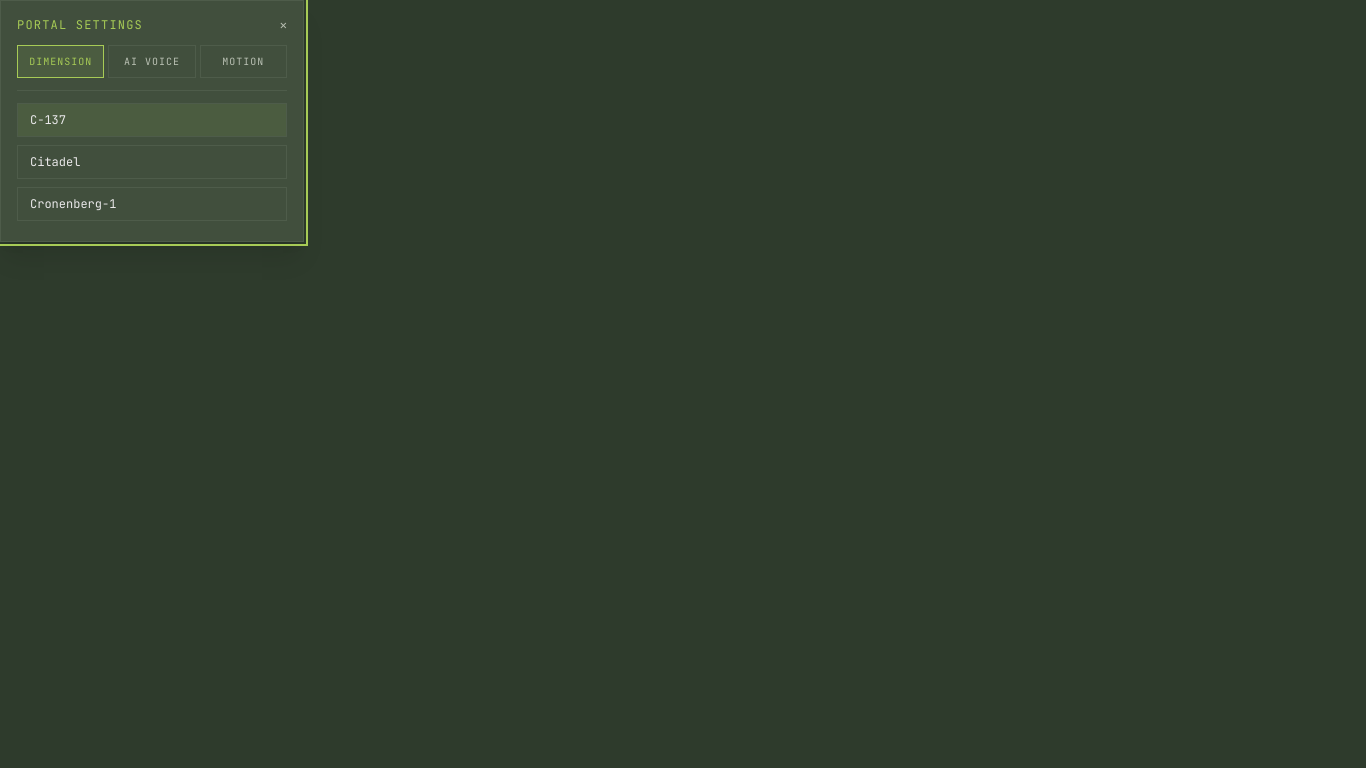
SettingsPanel › presents one tab per group of settings
Expected: the text "PORTAL SETTINGS" is shown, [17,17,143,33]
Expected: the tab "DIMENSION" is shown, [17,45,104,78]
What coordinates should you click on to do the following:
click the tab "MOTION"
I would click on:
 (243, 62)
Its box is [200,45,287,78].
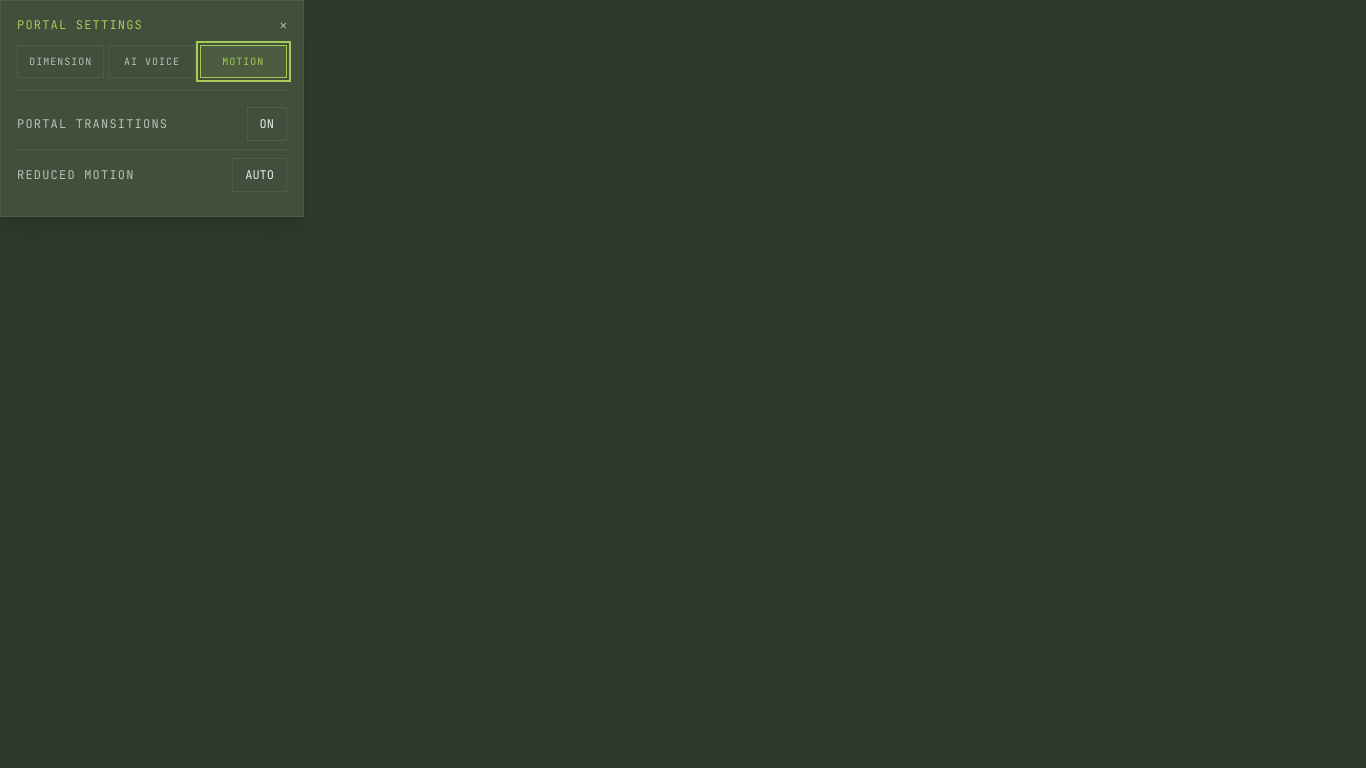
Expected: the button with aria-label "PORTAL TRANSITIONS" is shown, [247,107,287,141]
Expected: the button with aria-label "REDUCED MOTION" is shown, [232,158,287,192]
